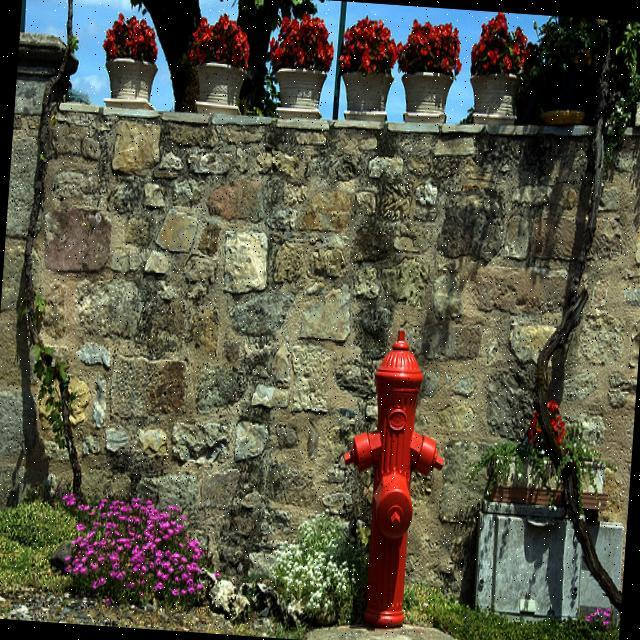fire_hydrant: (332, 324, 452, 626)
